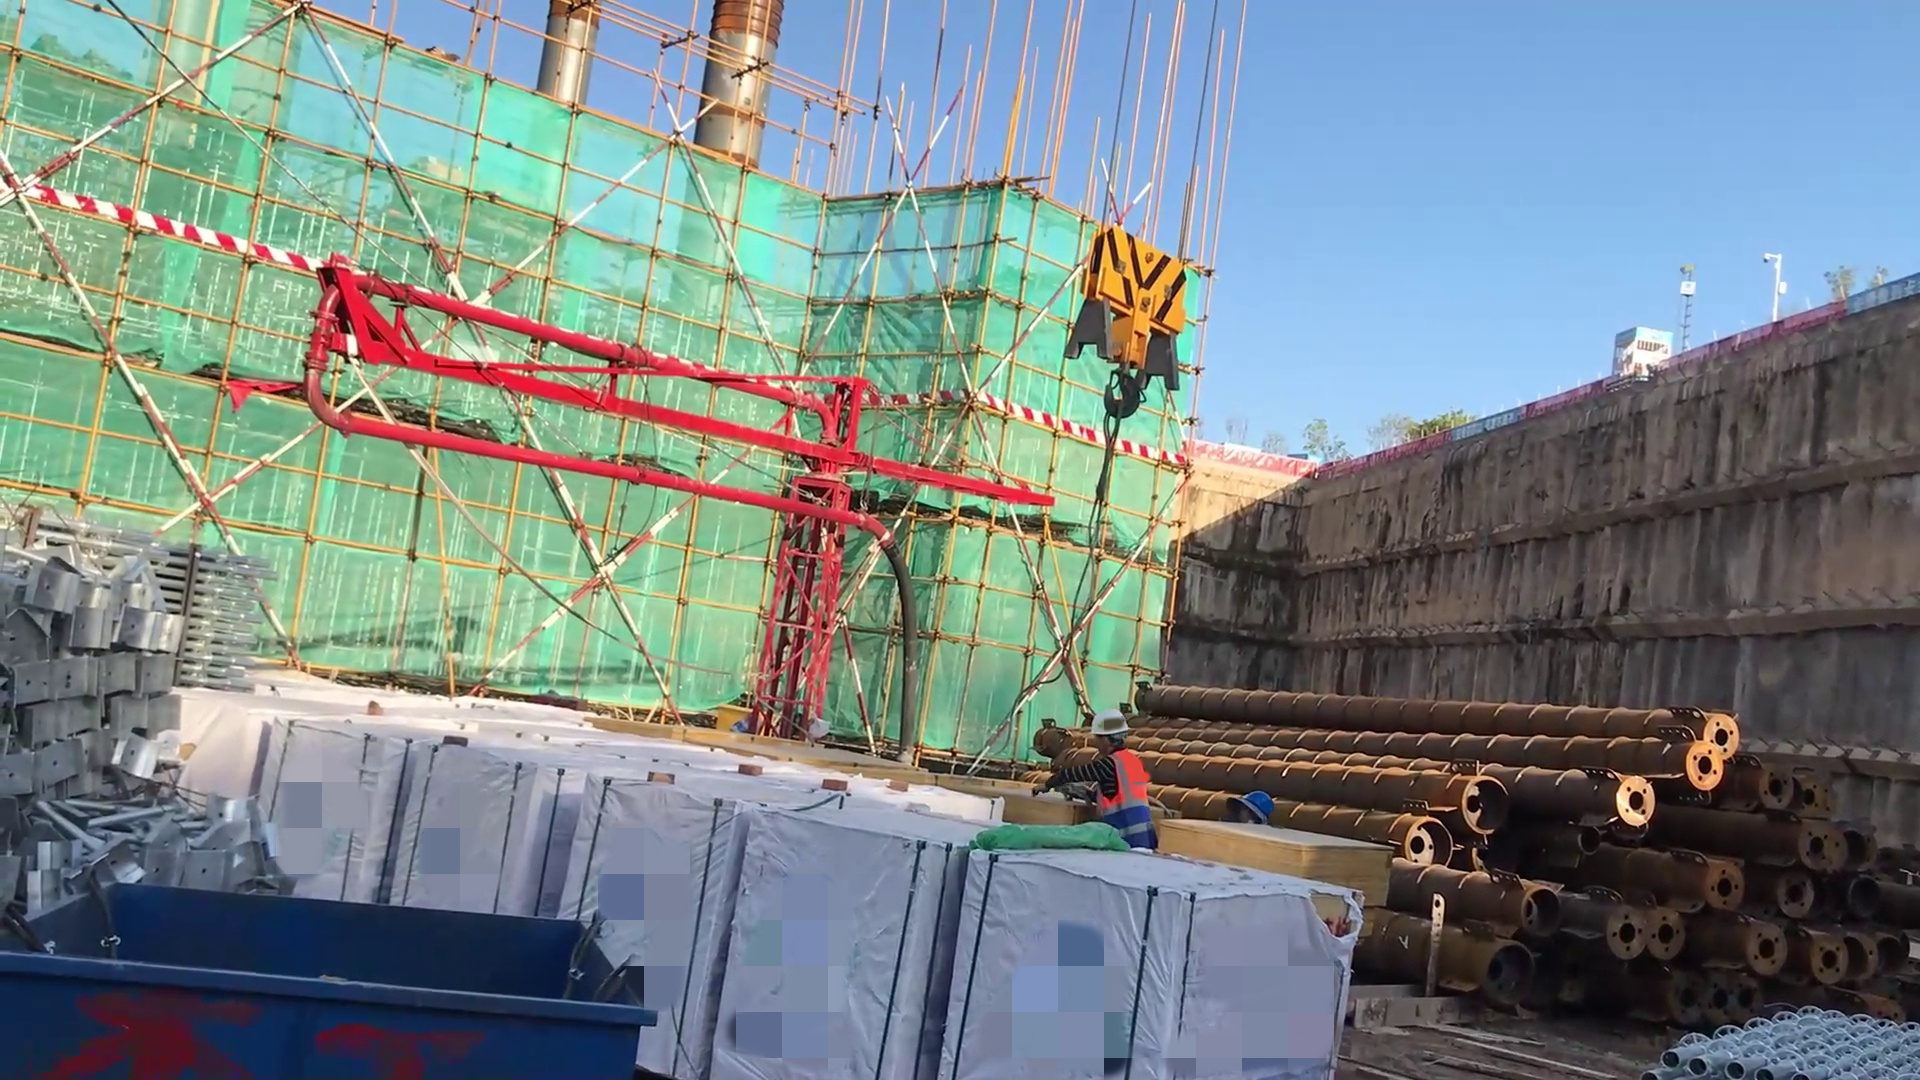board: (1141, 806, 1383, 920)
ebox: (691, 696, 776, 742)
helmet: (1223, 781, 1279, 833), (1088, 701, 1135, 751)
hook: (1063, 203, 1216, 455)
hopper: (1, 881, 694, 1079)
person: (1021, 700, 1164, 869)
scaffold: (30, 495, 281, 702), (1651, 969, 1913, 1080)
slogan: (1836, 266, 1920, 326), (1448, 402, 1530, 451)
vest: (1084, 747, 1163, 852)
